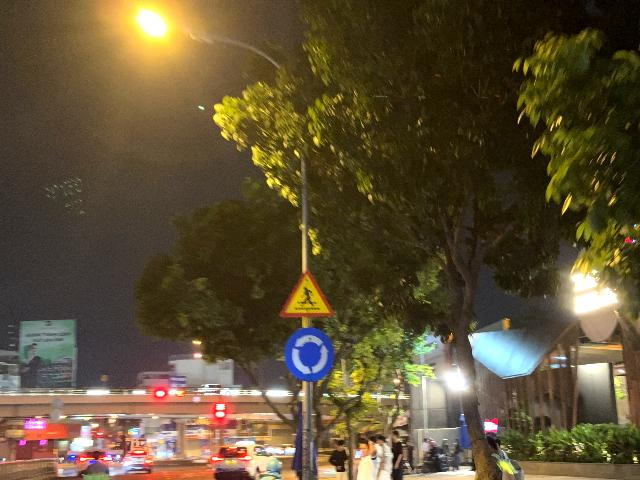duong-nguoi-di-bo-cat-ngang: (279, 267, 334, 317)
noi-giao-nhau-chay-theo-vong-xuyen: (284, 328, 335, 382)
